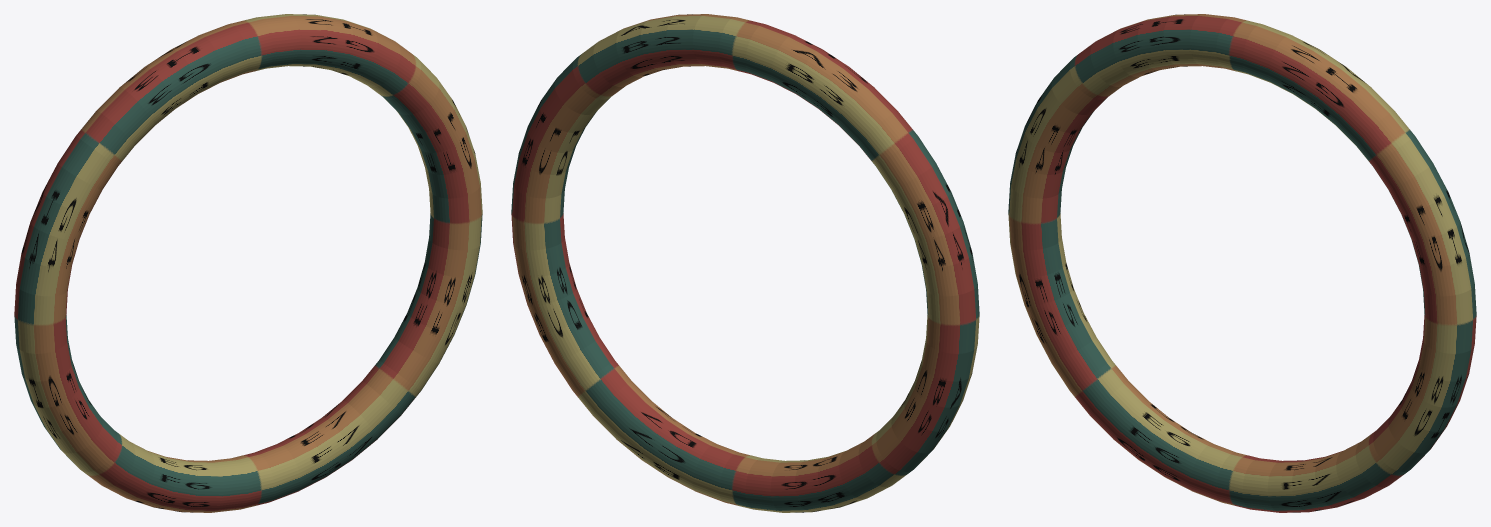
Rendered from texture_torus_R20_r2.glb.
The picture shows the model from 3 angles, left to right: view 1: azimuth 30°, elevation 25°; view 2: azimuth 150°, elevation 25°; view 3: azimuth 330°, elevation 25°; orthographic projection.
Parts seen in each view (by area): view 1: world; view 2: world; view 3: world.
Part boxes in pixels (x1=…): world: x1=14, y1=14, x2=482, y2=512; world: x1=511, y1=14, x2=979, y2=512; world: x1=1008, y1=14, x2=1476, y2=512.
Size of the model in its own units: 25.87 by 25.82 by 2.53.
1 material, 1 textured.
